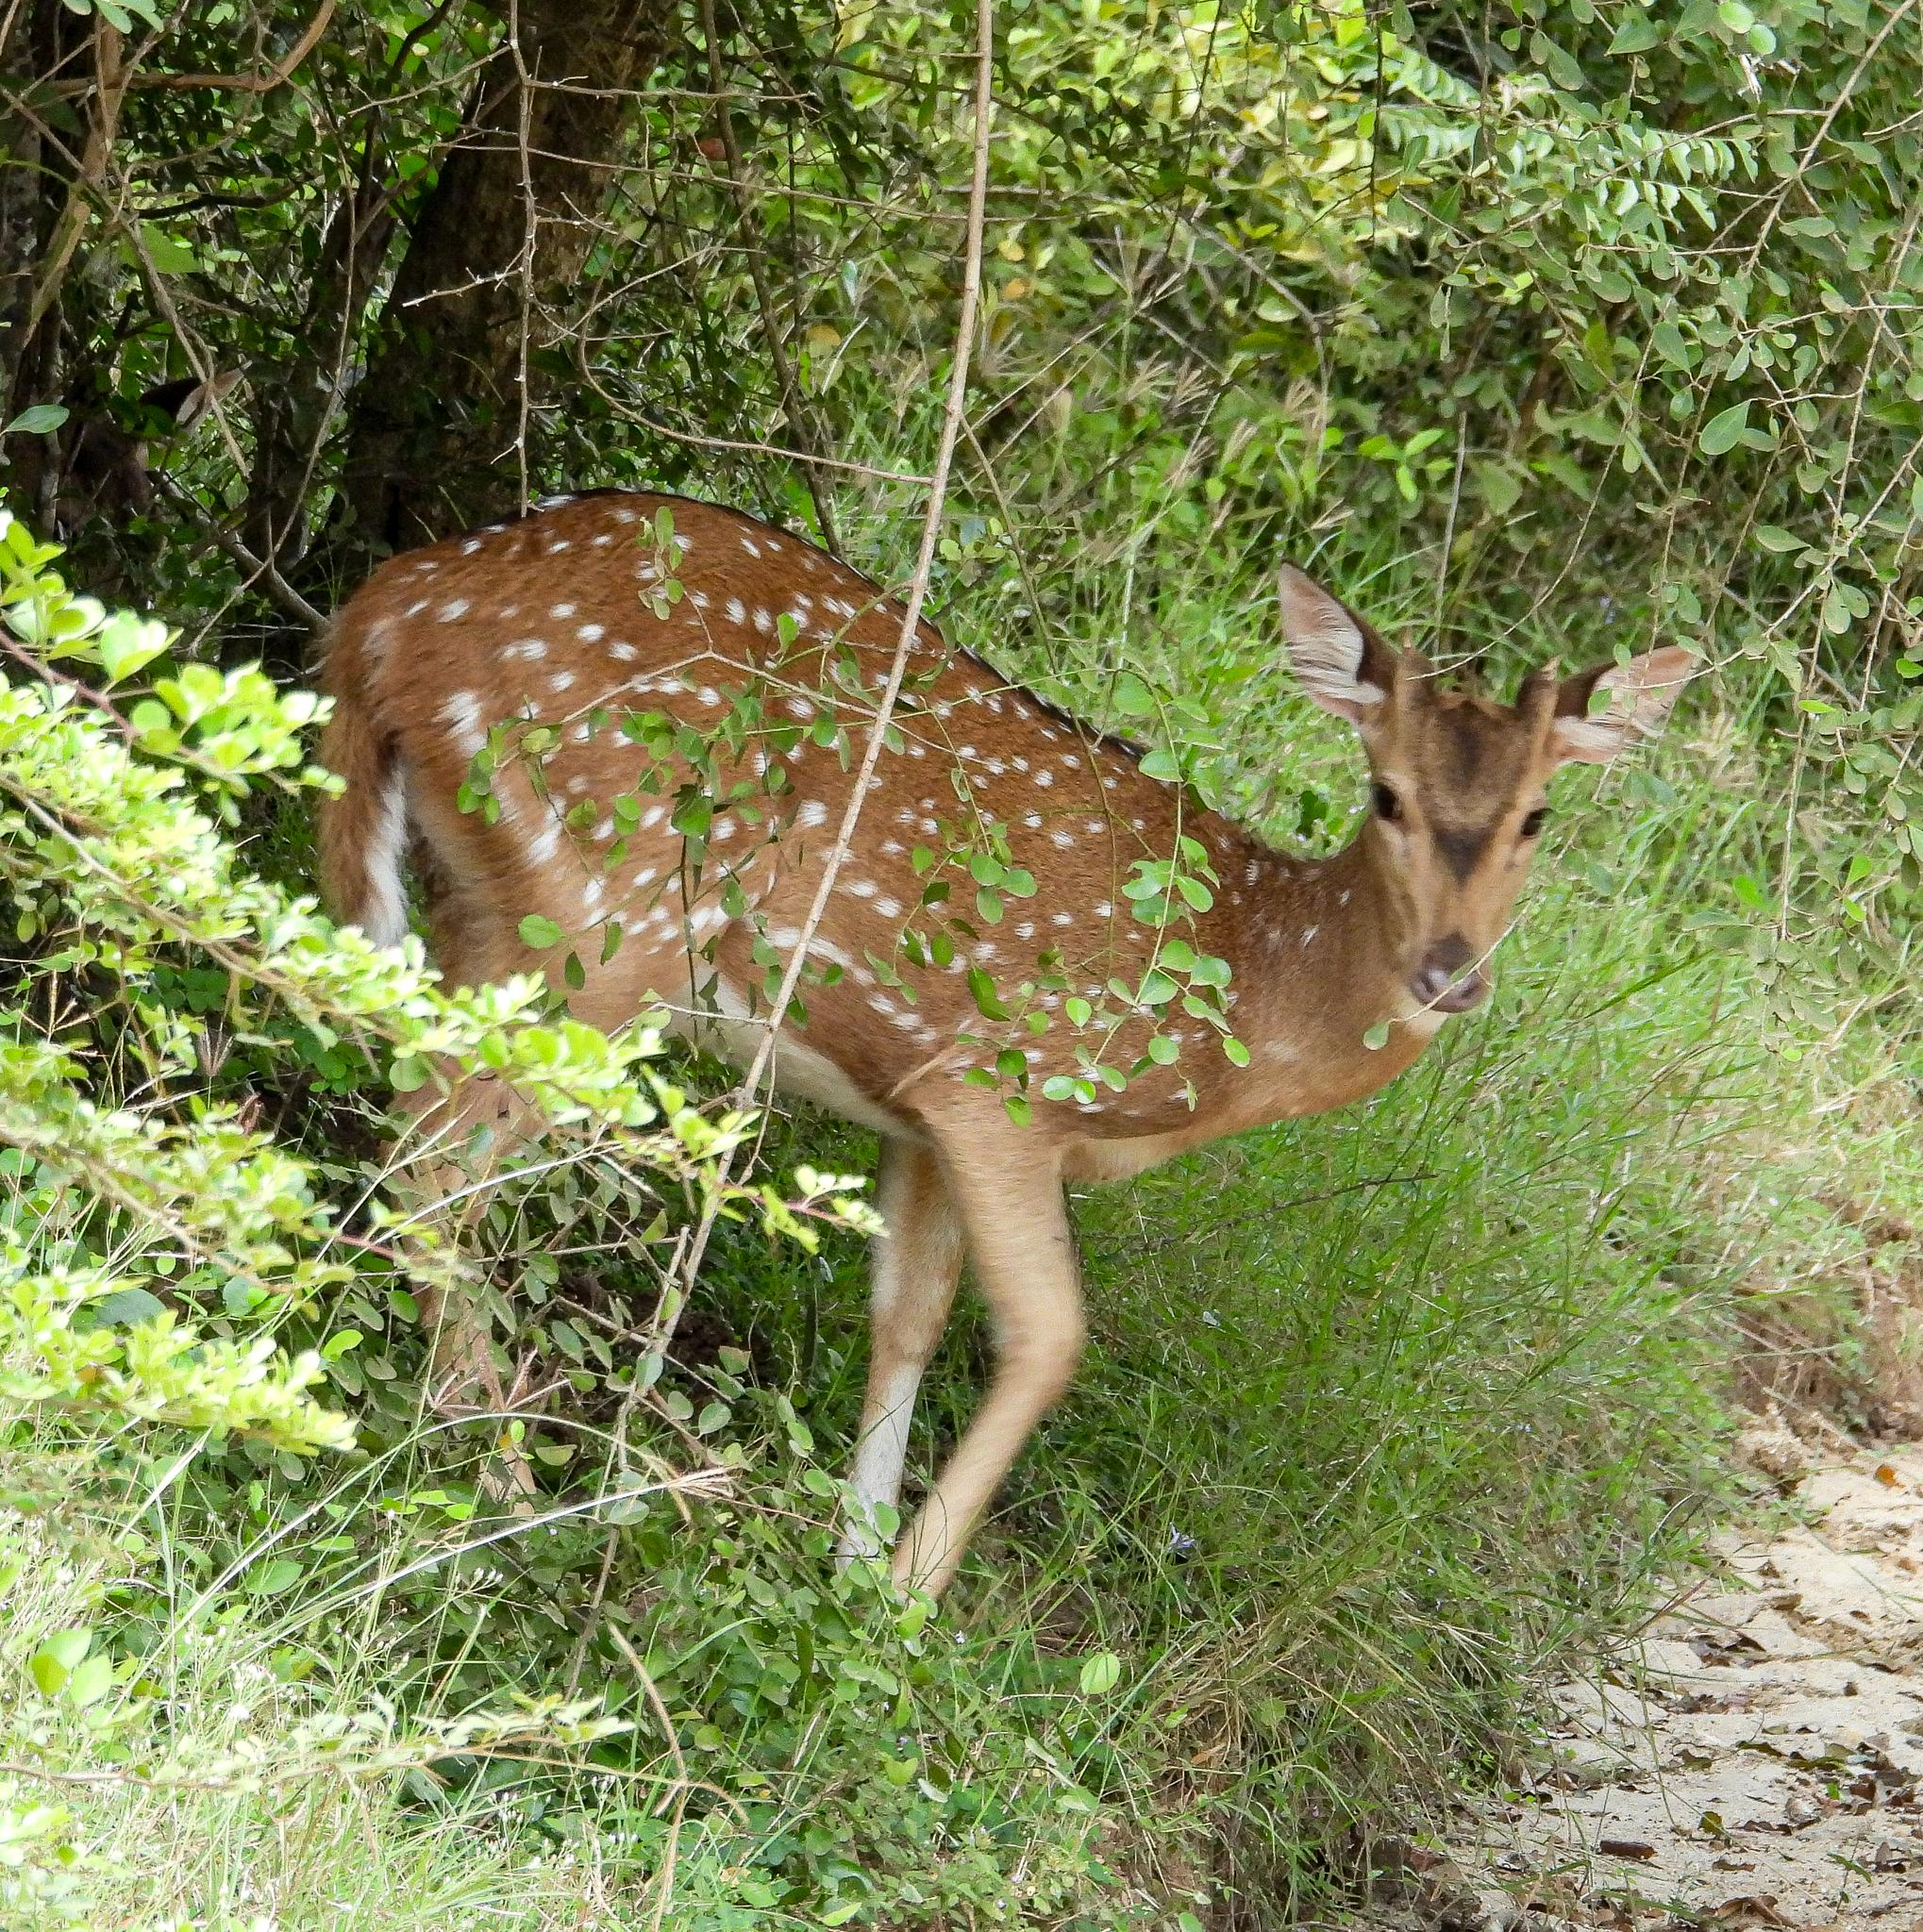Deer: (320, 493, 1694, 1596)
